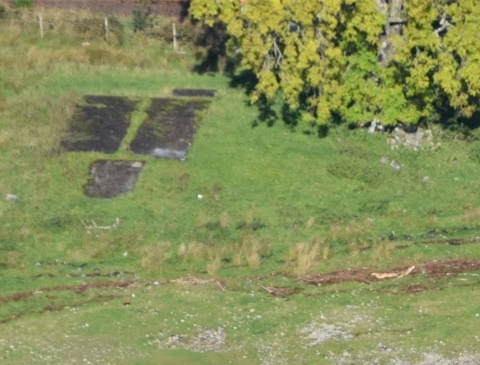cuboid: (124, 92, 216, 165), (53, 91, 144, 157), (78, 153, 148, 200)
